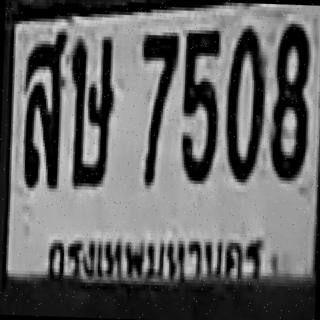A39: (66, 32, 114, 187)
A40: (20, 29, 64, 187)
N00: (224, 22, 266, 180)
N05: (178, 27, 220, 181)
N07: (135, 30, 177, 184), (136, 30, 177, 143)
N08: (268, 20, 310, 178)
P04: (39, 218, 272, 288)
